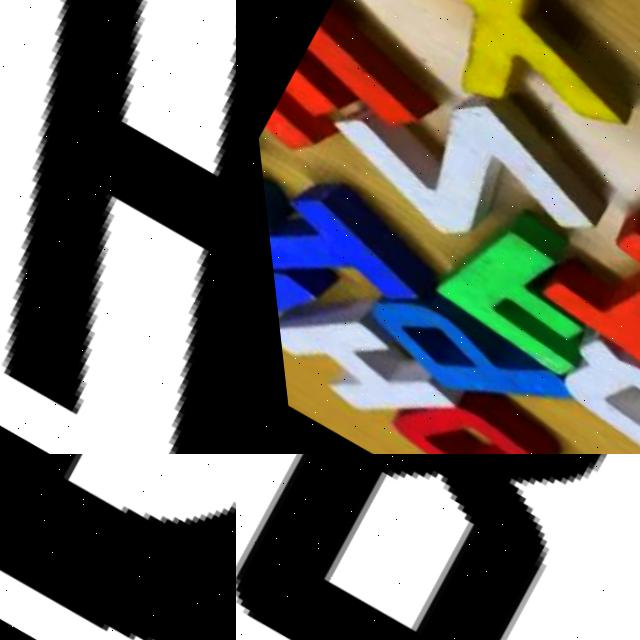8: (236, 454, 640, 640)
D: (0, 454, 236, 640)
F: (400, 197, 634, 402)
H: (0, 0, 236, 454), (265, 263, 468, 454)
I: (517, 176, 640, 429)
N: (260, 205, 333, 357)
O: (378, 363, 567, 454)
Q: (518, 300, 640, 454)
X: (313, 0, 640, 189)
Z: (311, 26, 636, 311)
